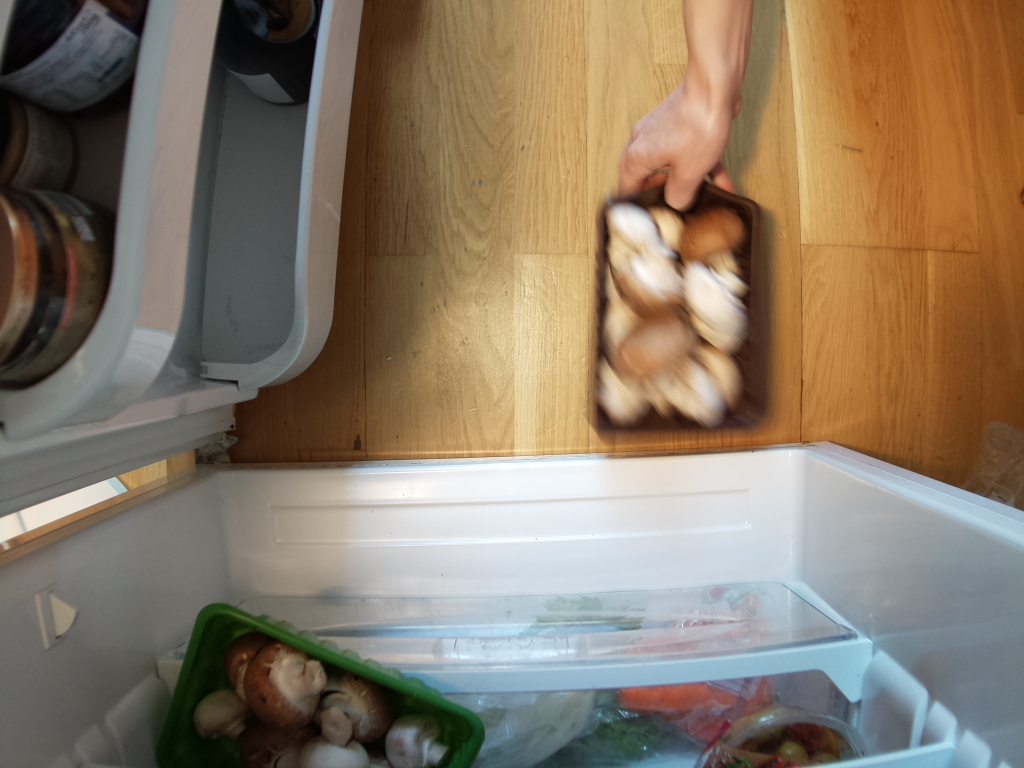mushrooms: (173, 609, 462, 768), (590, 181, 771, 428)
